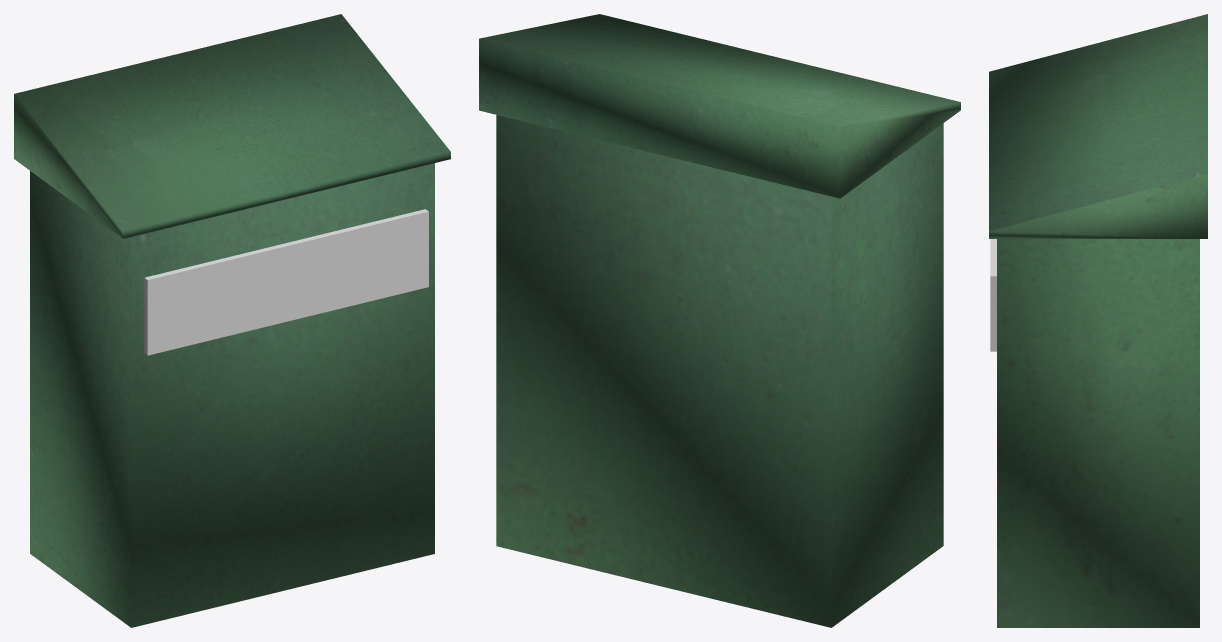
File: PostKasse.glb
The picture shows the model from 3 angles, left to right: view 1: azimuth 30°, elevation 25°; view 2: azimuth 150°, elevation 25°; view 3: azimuth 270°, elevation 25°; orthographic projection. The views are drawn at different scales.
Visible parts, largest first — view 1: PostKasse, PostkasseLokk, NavneSkilt; view 2: PostKasse, PostkasseLokk; view 3: PostKasse, PostkasseLokk, NavneSkilt.
Boxes of the visible parts, x1,y1,x2,y2 form: PostKasse: [30, 163, 434, 627]; PostkasseLokk: [14, 14, 450, 238]; NavneSkilt: [144, 209, 428, 355]; PostKasse: [496, 115, 943, 627]; PostkasseLokk: [479, 14, 960, 198]; PostKasse: [997, 239, 1199, 627]; PostkasseLokk: [989, 14, 1207, 238]; NavneSkilt: [990, 239, 996, 351].
Size of the model in its own units: 2.94 by 3.95 by 1.7.
Materials: 3 (2 with a texture image).
